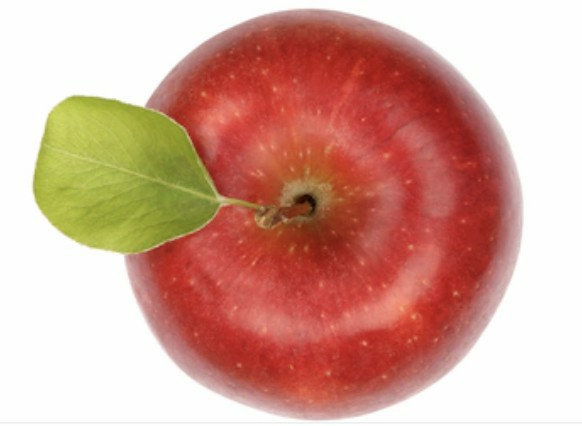fresh_apple: (118, 8, 527, 415)
